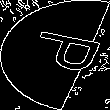P_E: (9, 30, 101, 80)
